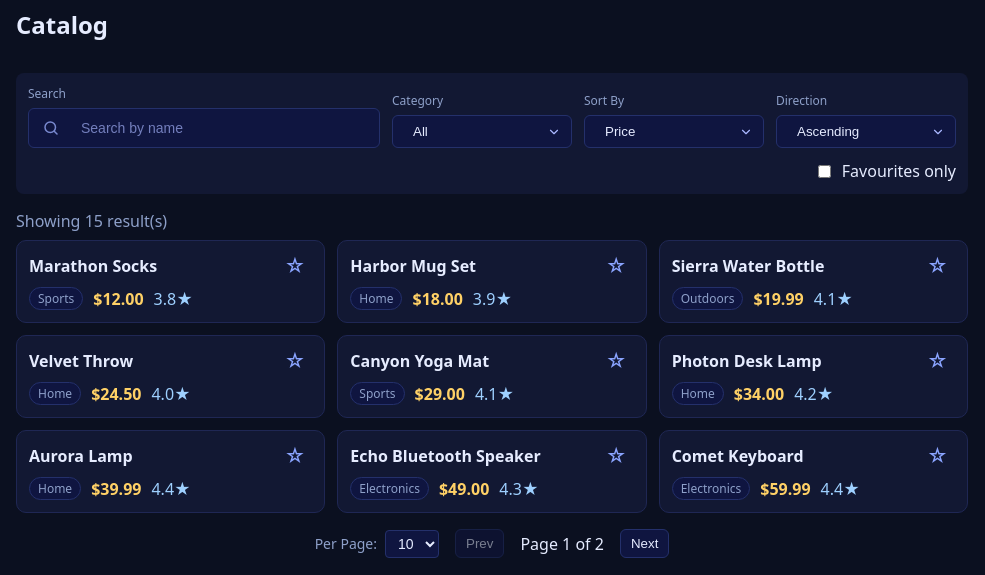
Scenario: sorts by price descending (highest first)
Select "Price" in the dropdown named "sort by field" at point(674, 132), box [584,115,764,148]
Select "Descending" in the dropdown named "sort direction" at point(866, 132), box [776,115,956,148]
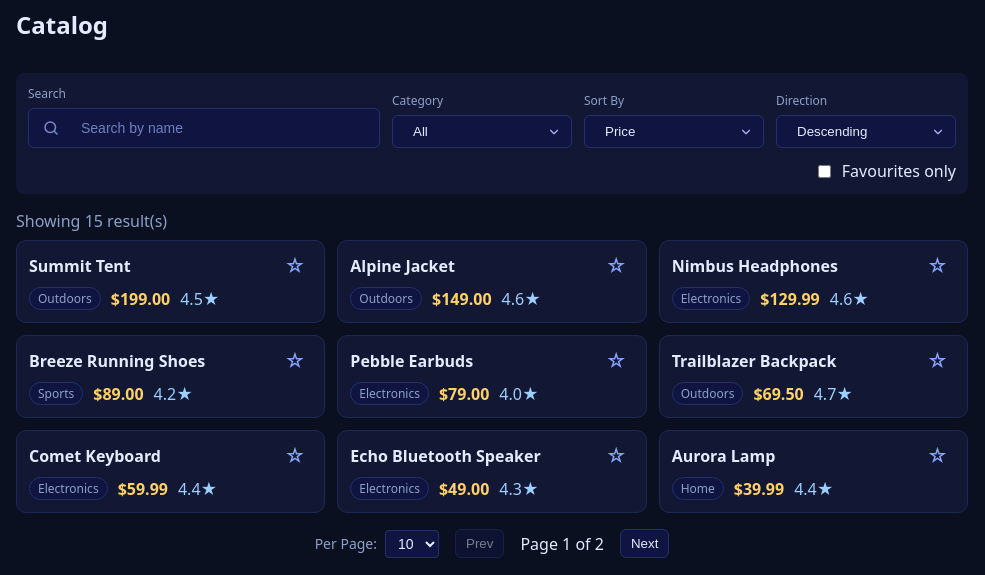
Expected: the heading "Summit Tent" is shown, [29,255,131,277]
